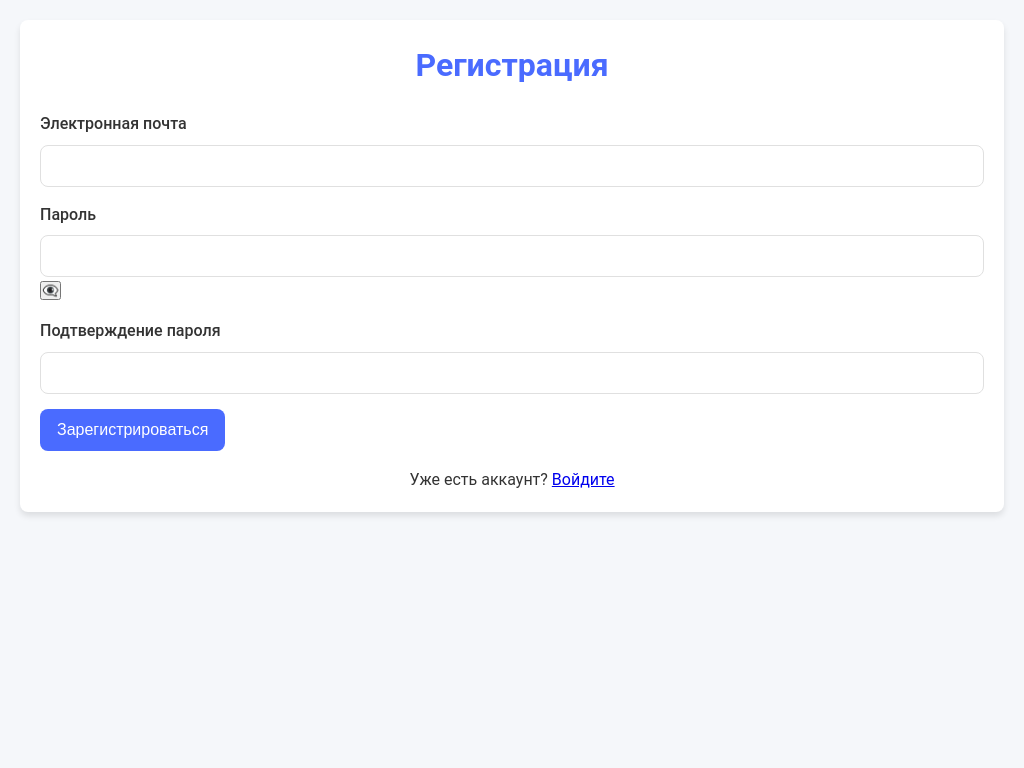
it: Register Component › проверяет совпадение паролей
Note: Заполняем Email и пароль
Type "test@example.com" into the field labelled "Электронная почта" at (512, 166), box [40,145,984,187]
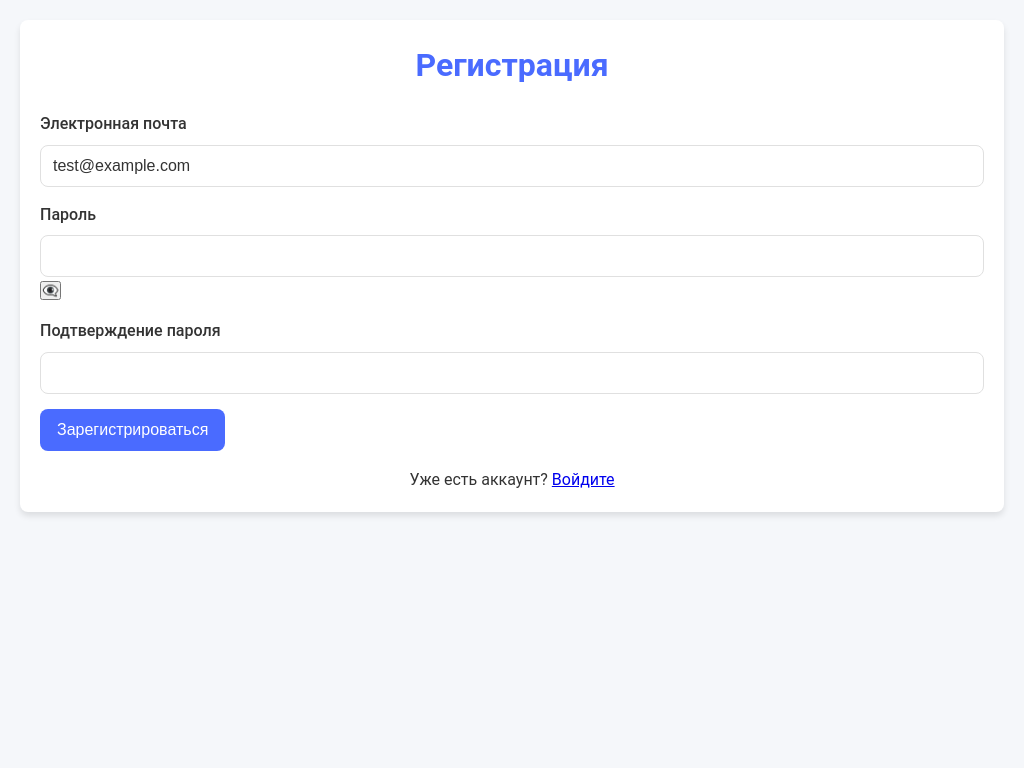
Type "password123" into the password field labelled "Пароль" at (512, 256), box [40,235,984,277]
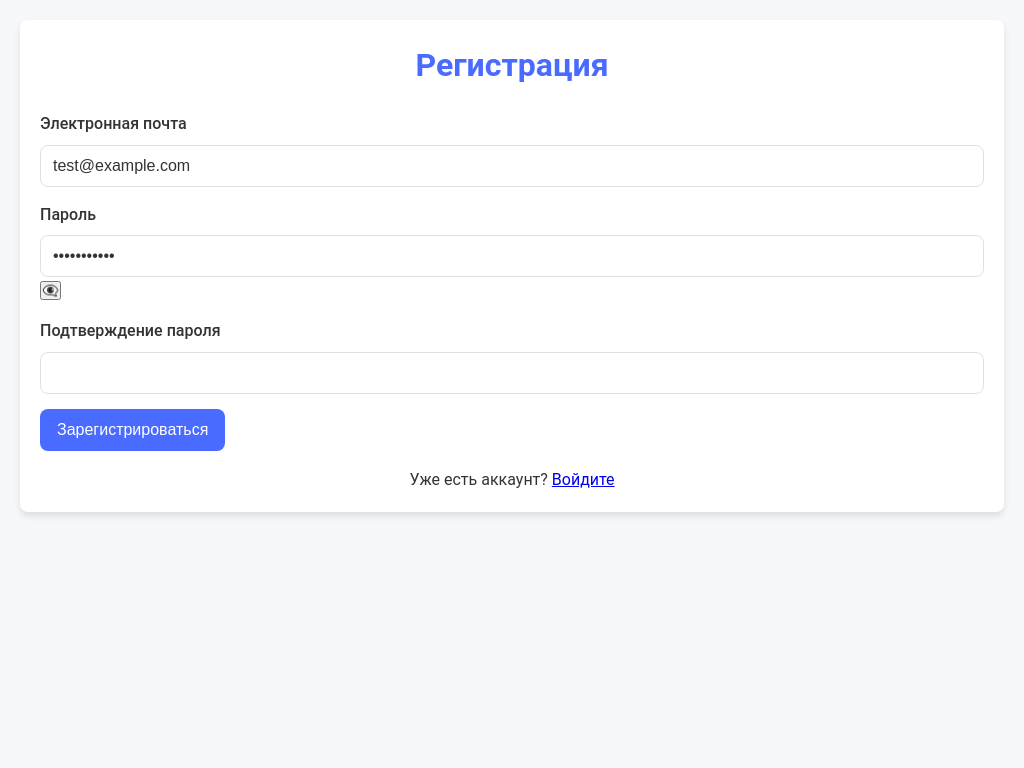
Type "different_password" into the password field labelled "Подтверждение пароля" at (512, 373), box [40,352,984,394]
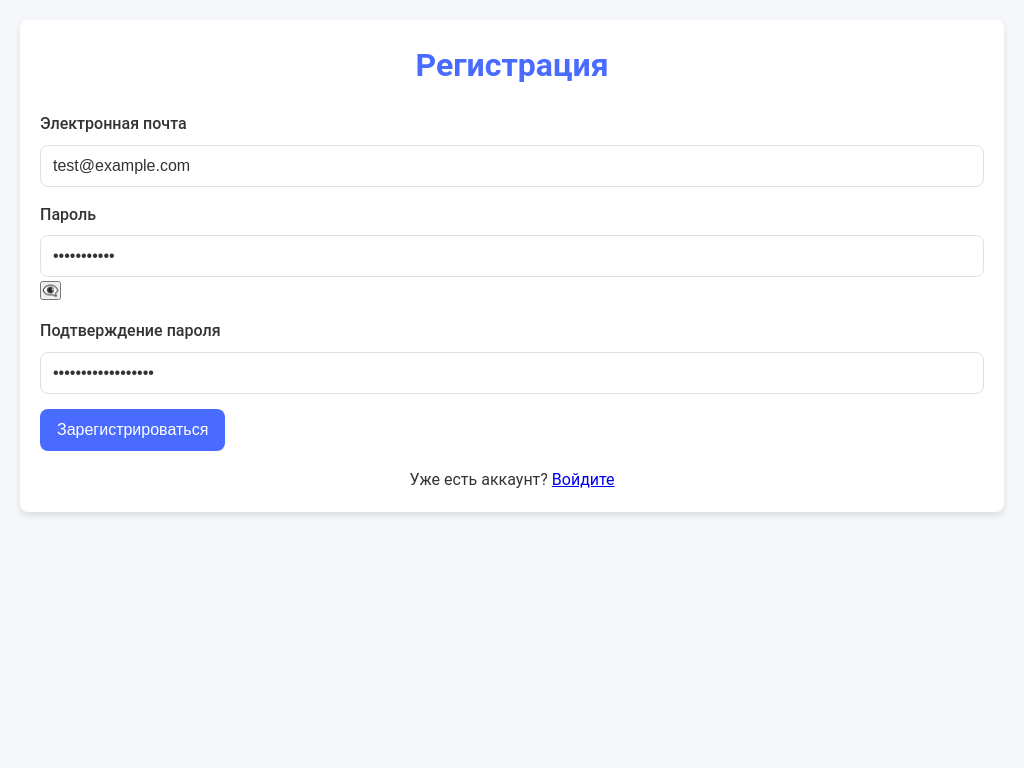
Note: Отправляем форму
Click the button "Зарегистрироваться" at (133, 430), box [40,409,225,451]
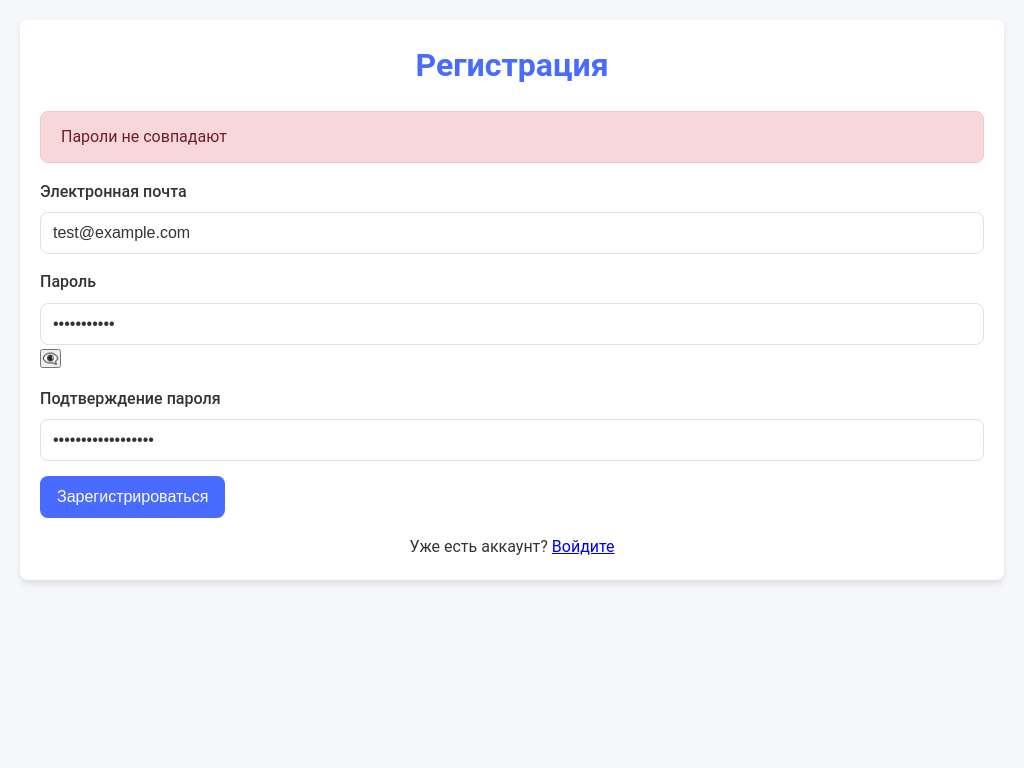
Expected: the text "Пароли не совпадают" is shown, [40,111,984,163]
